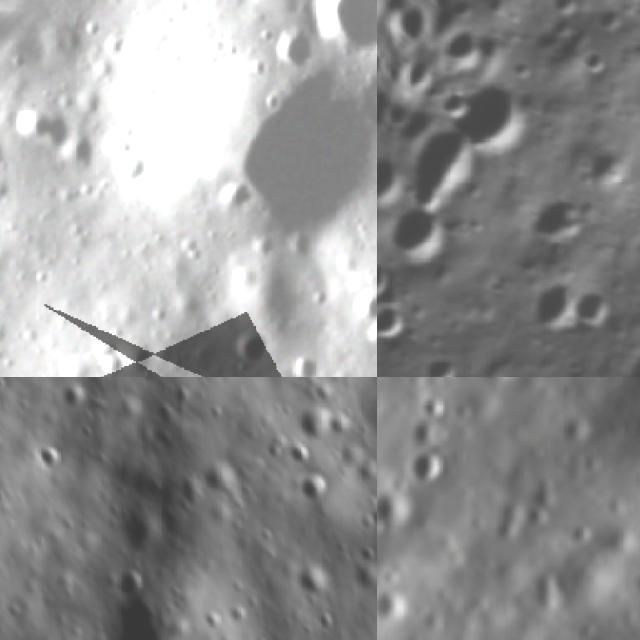crater: (203, 53, 377, 270), (434, 45, 553, 166), (397, 116, 492, 216), (377, 188, 458, 275), (520, 174, 598, 251), (293, 0, 377, 69), (514, 262, 584, 338), (5, 90, 79, 160), (573, 124, 640, 195), (258, 10, 327, 77), (564, 270, 629, 338), (104, 137, 166, 198), (219, 317, 276, 377), (377, 289, 424, 357), (400, 444, 458, 498), (377, 574, 424, 640), (208, 168, 260, 221), (377, 484, 418, 549), (419, 338, 472, 377), (453, 377, 535, 401), (275, 341, 329, 377), (377, 241, 404, 309), (345, 283, 377, 329), (303, 403, 342, 435), (0, 121, 19, 185), (36, 443, 70, 474), (118, 563, 151, 591), (295, 471, 336, 493), (360, 313, 377, 362), (290, 441, 308, 463)
